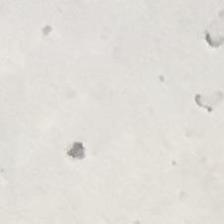Non_Crack: (17, 34, 199, 188)
